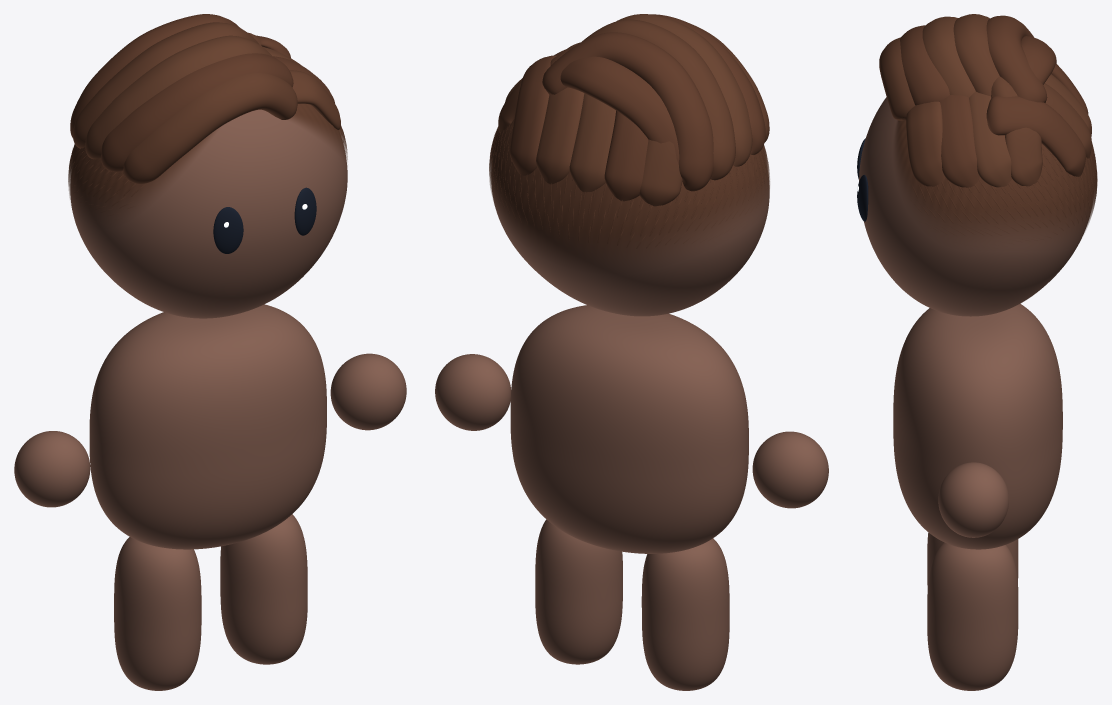
Rendered from Taper-skin3.glb.
3 renders of one model, left to right at view 1: azimuth 30°, elevation 25°; view 2: azimuth 150°, elevation 25°; view 3: azimuth 270°, elevation 25°, orthographic. The views are drawn at different scales.
Parts seen in each view (by area): view 1: Skin / compact torso, Skin / soft oval head, Skin / leg -1, Skin / leg 1, Hair / Taper top 0, Hair / Taper short sides, Hair / Taper top 1, Hair / Taper top 2, Skin / hand 1, Skin / hand -1, Hair / Taper top 3, Hair / Taper top 4 (+4 smaller); view 2: Skin / compact torso, Hair / Taper short sides, Skin / soft oval head, Skin / leg -1, Skin / leg 1, Hair / Taper top 4, Hair / Taper rear bridge, Skin / hand -1, Skin / hand 1, Hair / Taper top 3, Hair / Taper fine direction, Hair / Taper top 2 (+6 smaller); view 3: Skin / compact torso, Skin / soft oval head, Hair / Taper short sides, Skin / leg 1, Skin / hand 1, Hair / Taper crown 4, Hair / Taper top 4, Hair / Taper short sweep 1, Hair / Taper short sweep 0, Hair / Taper top 3, Hair / Taper short sweep 2, Hair / Taper top 1 (+10 smaller).
Part boxes in pixels (x1,y1,x2,y2): Skin / compact torso: [89, 304, 326, 549]; Skin / soft oval head: [70, 109, 347, 318]; Skin / leg -1: [114, 537, 201, 690]; Skin / leg 1: [220, 514, 307, 664]; Hair / Taper top 0: [123, 73, 297, 184]; Hair / Taper short sides: [68, 103, 347, 221]; Hair / Taper top 1: [101, 53, 293, 171]; Hair / Taper top 2: [85, 35, 272, 159]; Skin / hand 1: [330, 353, 406, 430]; Skin / hand -1: [14, 431, 90, 507]; Hair / Taper top 3: [73, 22, 259, 148]; Hair / Taper top 4: [70, 14, 239, 138]; Skin / compact torso: [510, 305, 748, 553]; Hair / Taper short sides: [489, 119, 769, 266]; Skin / soft oval head: [491, 170, 769, 316]; Skin / leg -1: [641, 538, 729, 690]; Skin / leg 1: [535, 519, 622, 664]; Hair / Taper top 4: [542, 32, 713, 191]; Hair / Taper rear bridge: [560, 56, 679, 164]; Skin / hand -1: [752, 431, 828, 508]; Skin / hand 1: [435, 354, 511, 430]; Hair / Taper top 3: [582, 19, 735, 180]; Hair / Taper fine direction: [489, 124, 769, 248]; Hair / Taper top 2: [616, 14, 752, 166]; Skin / compact torso: [893, 303, 1062, 549]; Skin / soft oval head: [859, 97, 1091, 316]; Hair / Taper short sides: [894, 120, 1097, 243]; Skin / leg 1: [927, 542, 1018, 690]; Skin / hand 1: [938, 462, 1008, 537]; Hair / Taper crown 4: [986, 96, 1085, 176]; Hair / Taper top 4: [986, 15, 1047, 102]; Hair / Taper short sweep 1: [940, 95, 979, 187]; Hair / Taper short sweep 0: [906, 101, 945, 186]; Hair / Taper top 3: [953, 14, 999, 96]; Hair / Taper short sweep 2: [969, 91, 1011, 187]; Hair / Taper top 1: [900, 25, 949, 105].
Bounding box in the file's own units: 1.49 × 2.4 × 0.8289.
